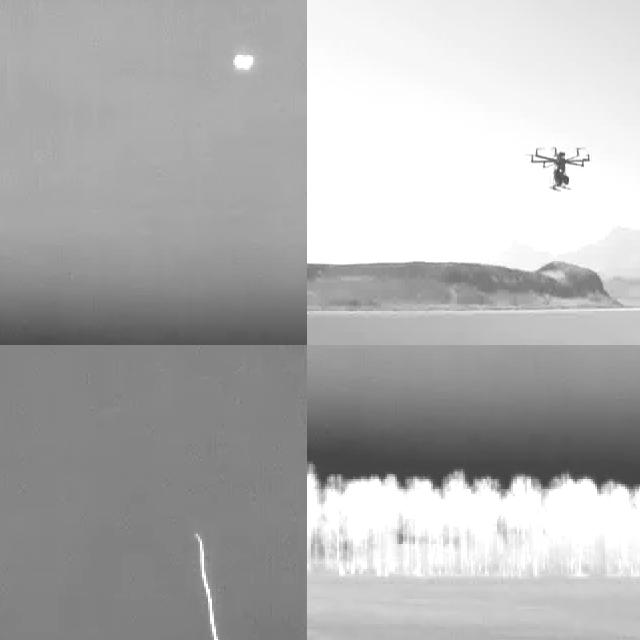1: (224, 50, 260, 82)
drone: (528, 140, 589, 190)
